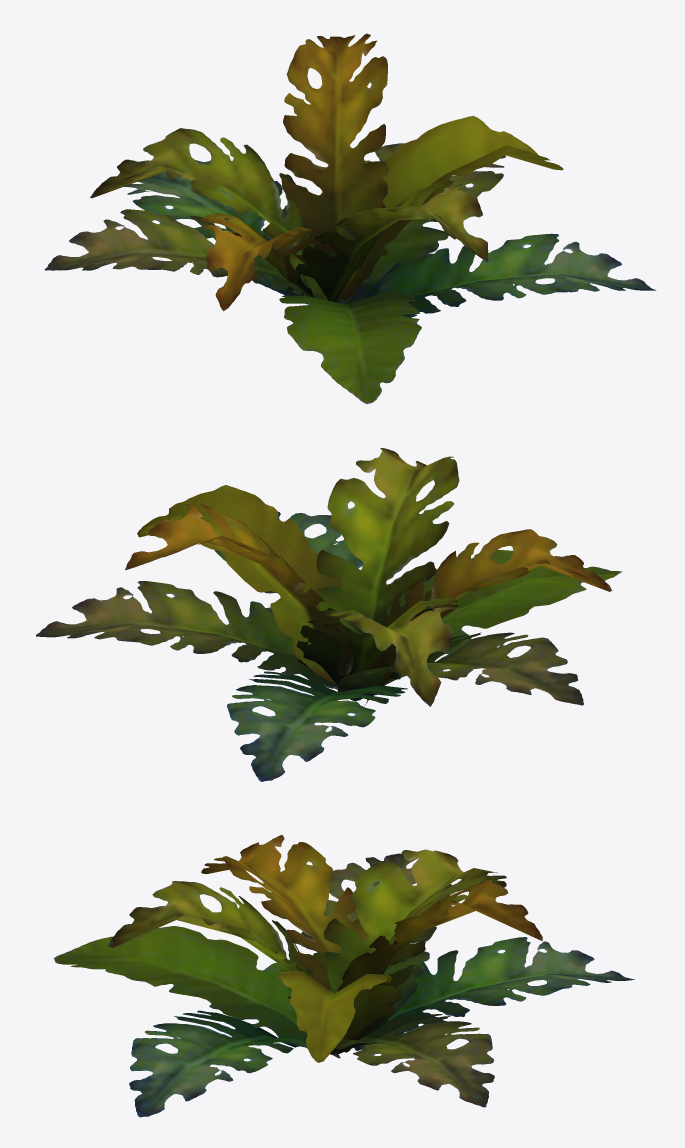
The model's file is bush_1.fbx.
The picture shows the model from 3 angles, top to bottom: view 1: azimuth 30°, elevation 25°; view 2: azimuth 150°, elevation 25°; view 3: azimuth 270°, elevation 25°; orthographic projection. The views are drawn at different scales.
Visible parts, largest first — view 1: bush_1; view 2: bush_1; view 3: bush_1.
Boxes of the visible parts, x1,y1,x2,y2 form: bush_1: (44,33,656,404); bush_1: (36,448,621,781); bush_1: (53,835,634,1117).
Bounding box in the file's own units: 1.32 × 0.4756 × 1.37.
